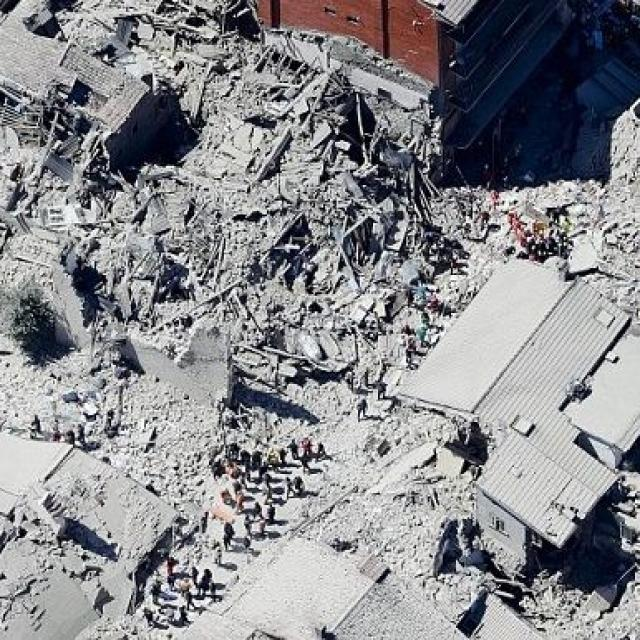collapsed_building: (0, 36, 444, 470)
